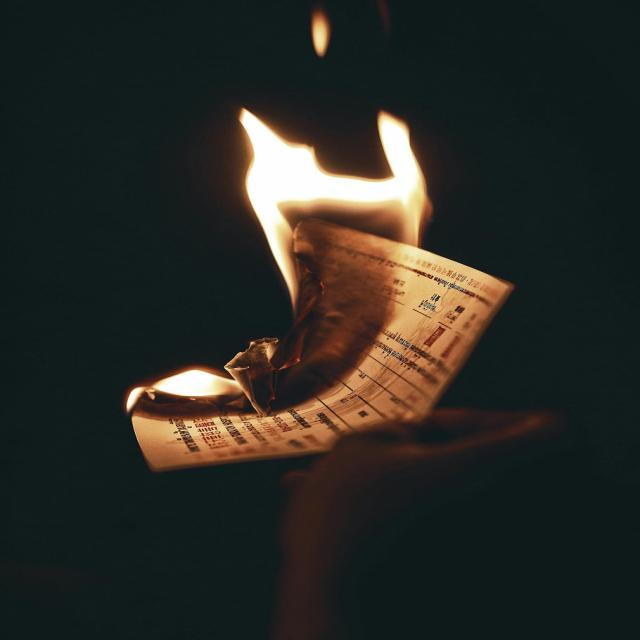fire: (239, 108, 429, 319), (124, 365, 243, 414)
